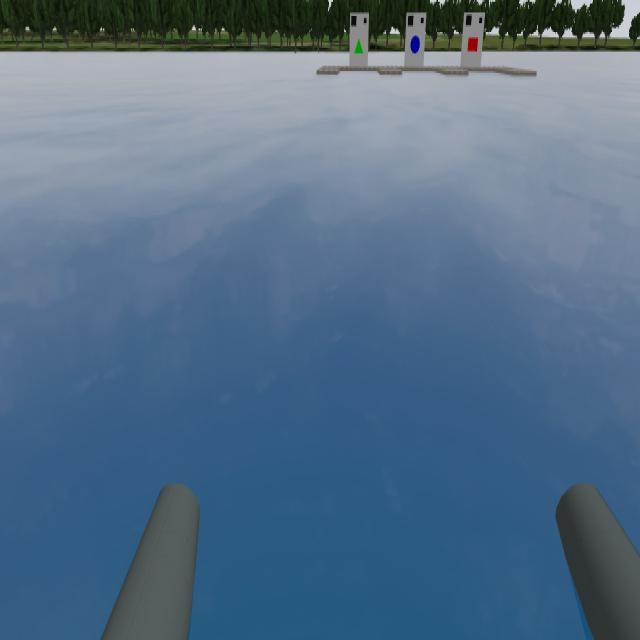dock: (405, 12, 425, 68), (463, 11, 483, 65), (349, 14, 369, 67)
